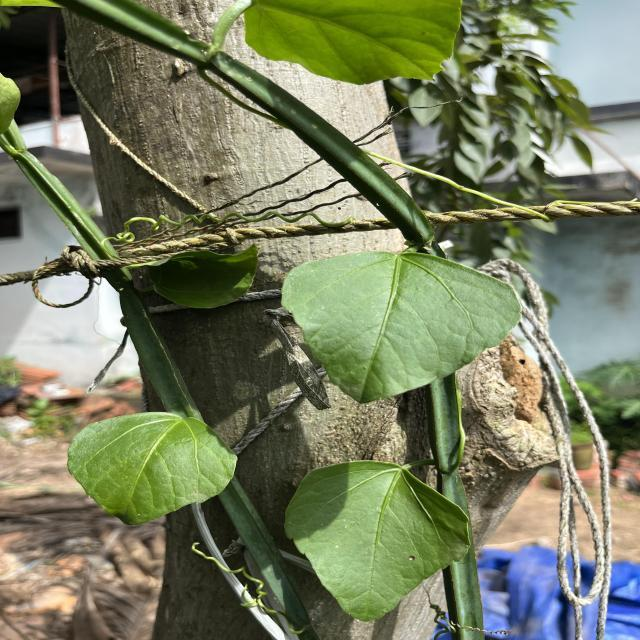Cissus quadrangularis: (280, 457, 473, 624), (65, 407, 240, 530)
